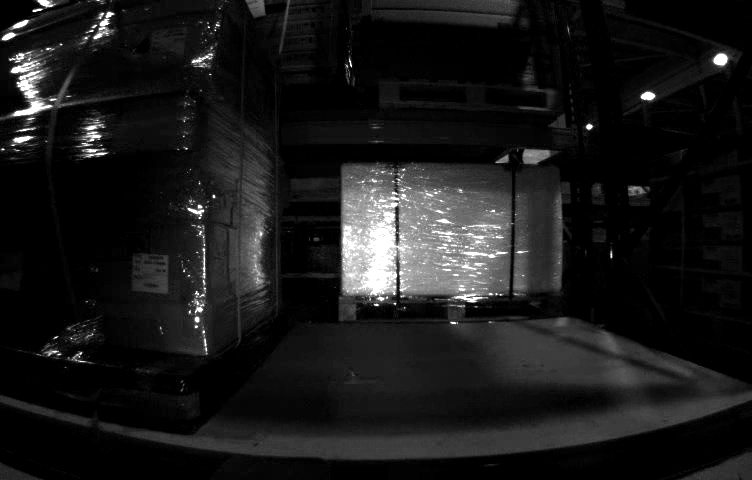True Barcode: (131, 251, 170, 295)
